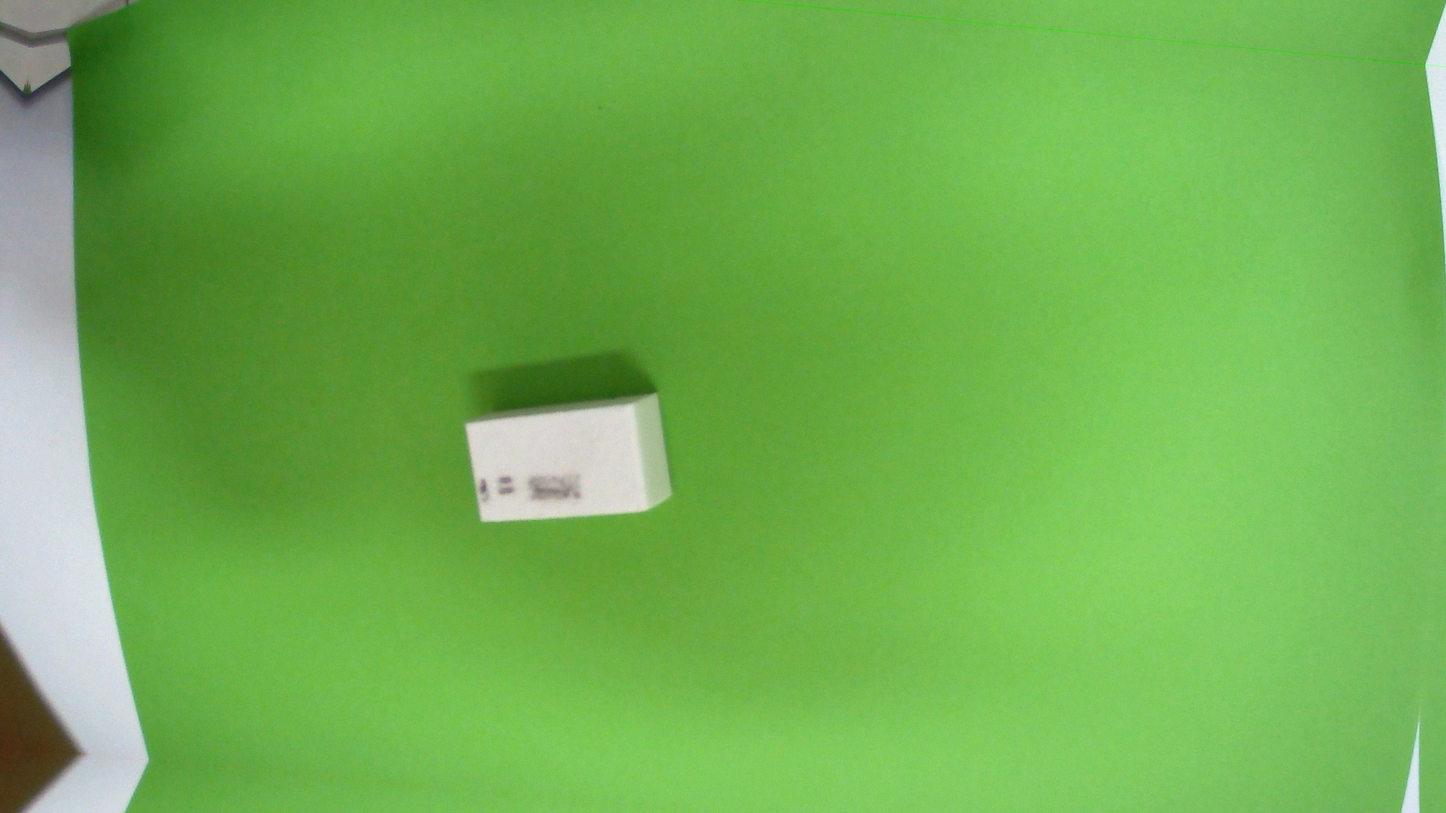gom: (458, 368, 680, 547)
